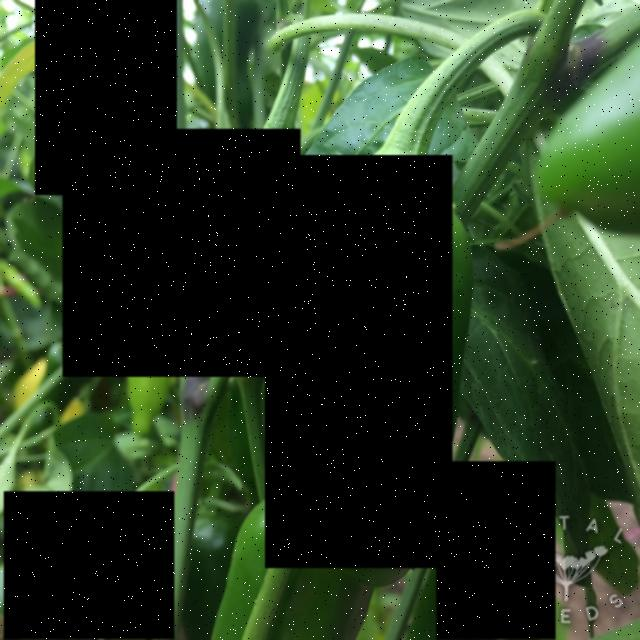Chili_Pepper: (265, 155, 453, 568), (62, 129, 300, 377), (35, 0, 177, 195), (4, 491, 174, 640), (436, 461, 556, 640)
